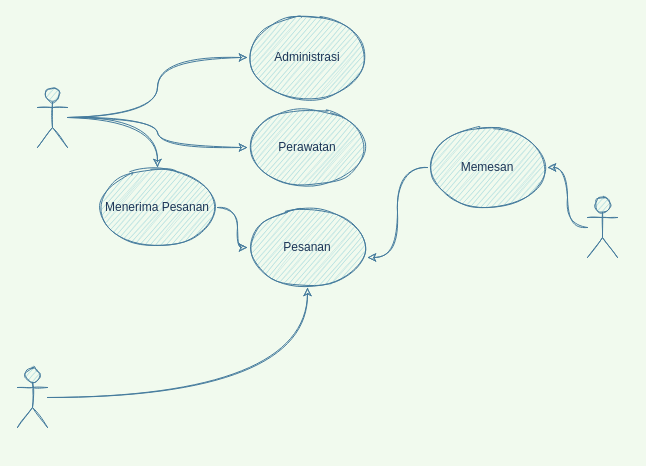
Some shapes in this 646 by 466 pixel diagram are drawn without their labels. The box of each missing label's shape, as (x1, y1, x2, y2) in pixels:
Customer: (586, 196, 618, 258)
Owner: (36, 86, 68, 148)
Sopir: (16, 366, 48, 428)
